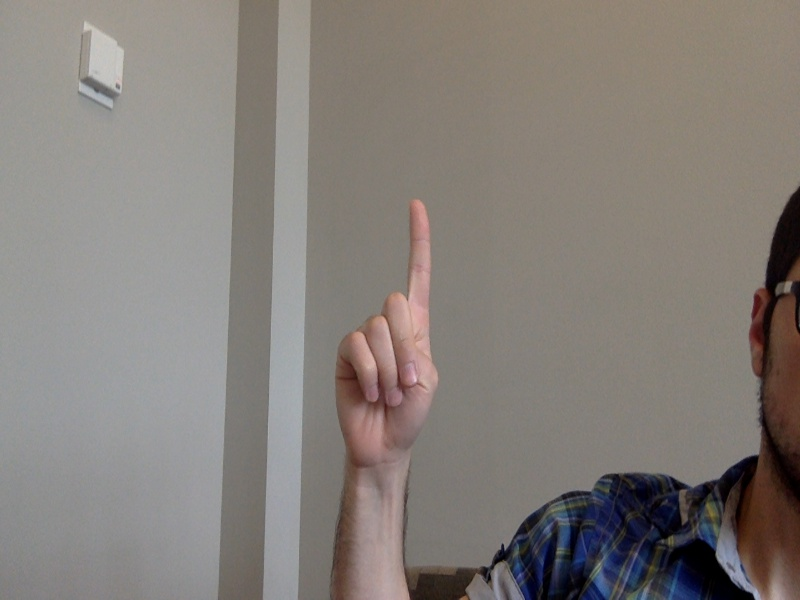1-hand: (335, 196, 443, 471)
